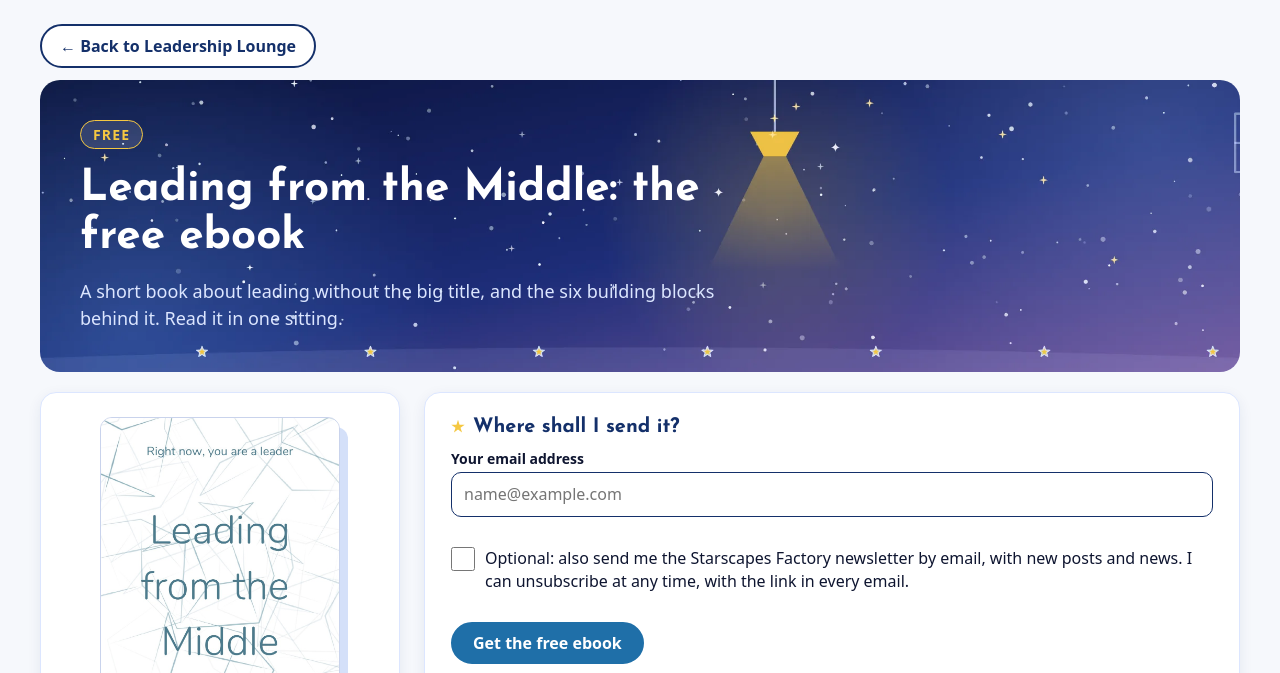
the page › says plainly when it did not work, keeps what was typed, and does not say it is done
The image size is (1280, 673).
Type "a@b.co" into the field labelled "Your email address" at (832, 495), box 451,472 -> 1213,517
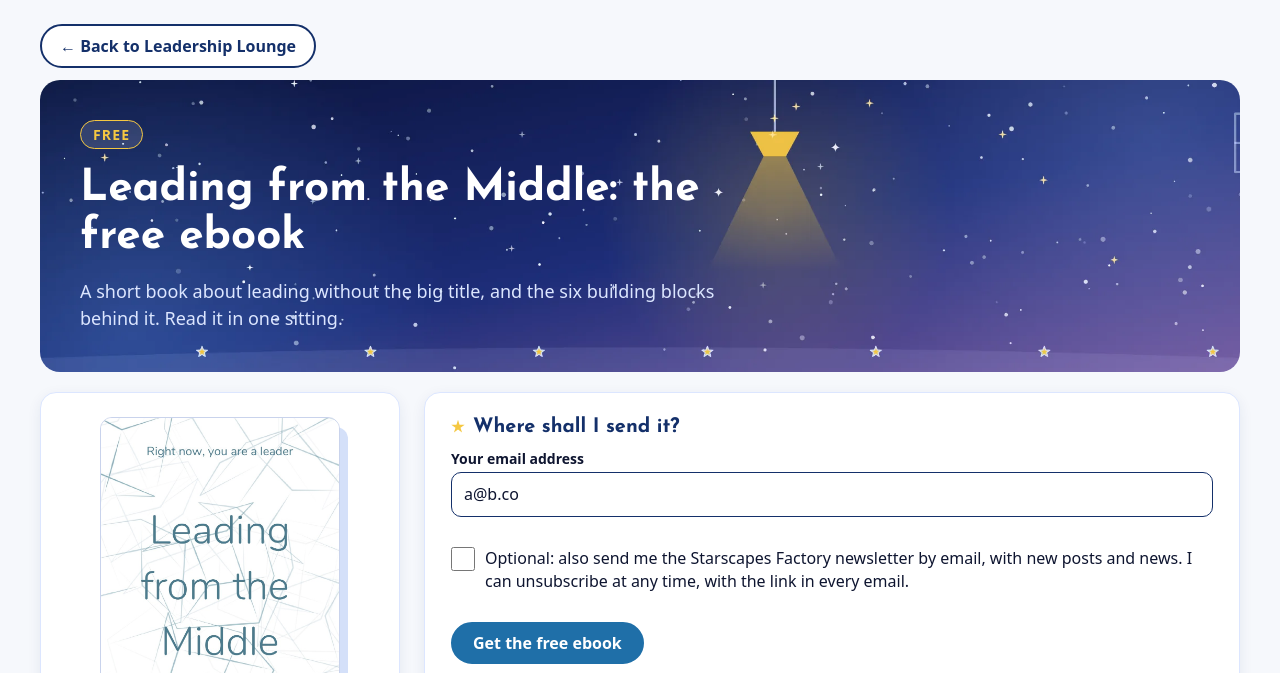
Click the button "Get the free ebook" at (547, 643), box 451,622 -> 644,664
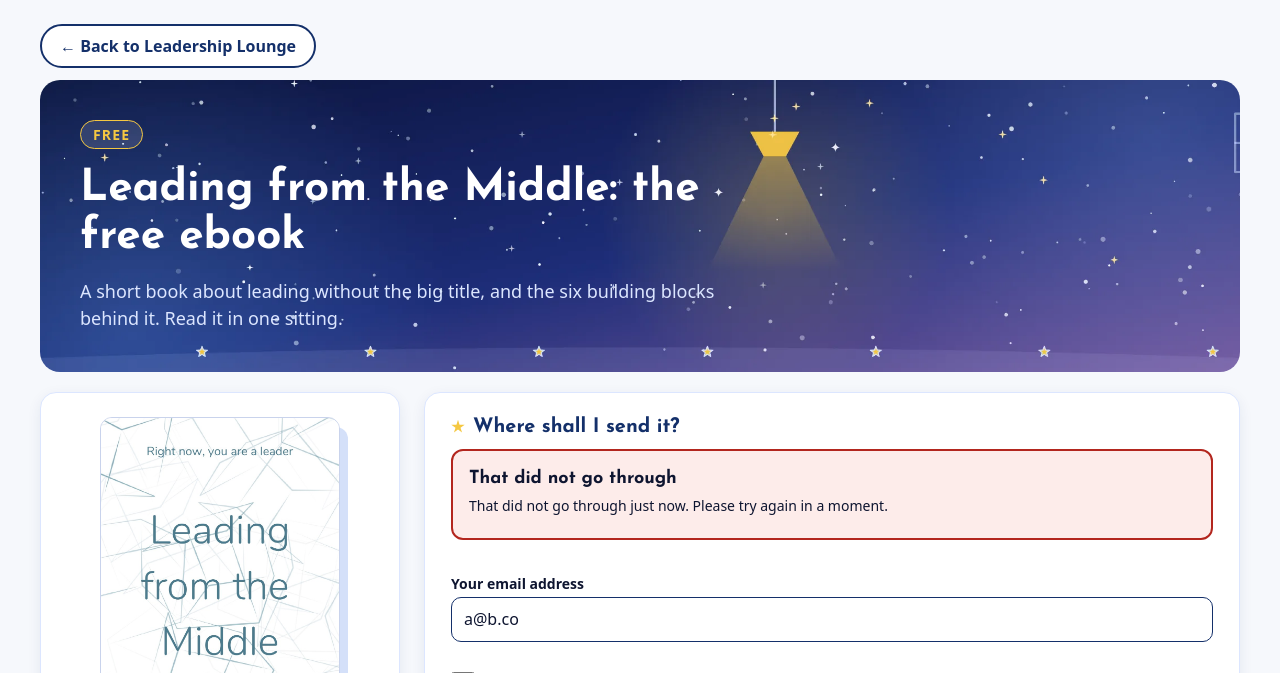
Now the text "did not go through just now" is shown, box 469,496 -> 888,515
